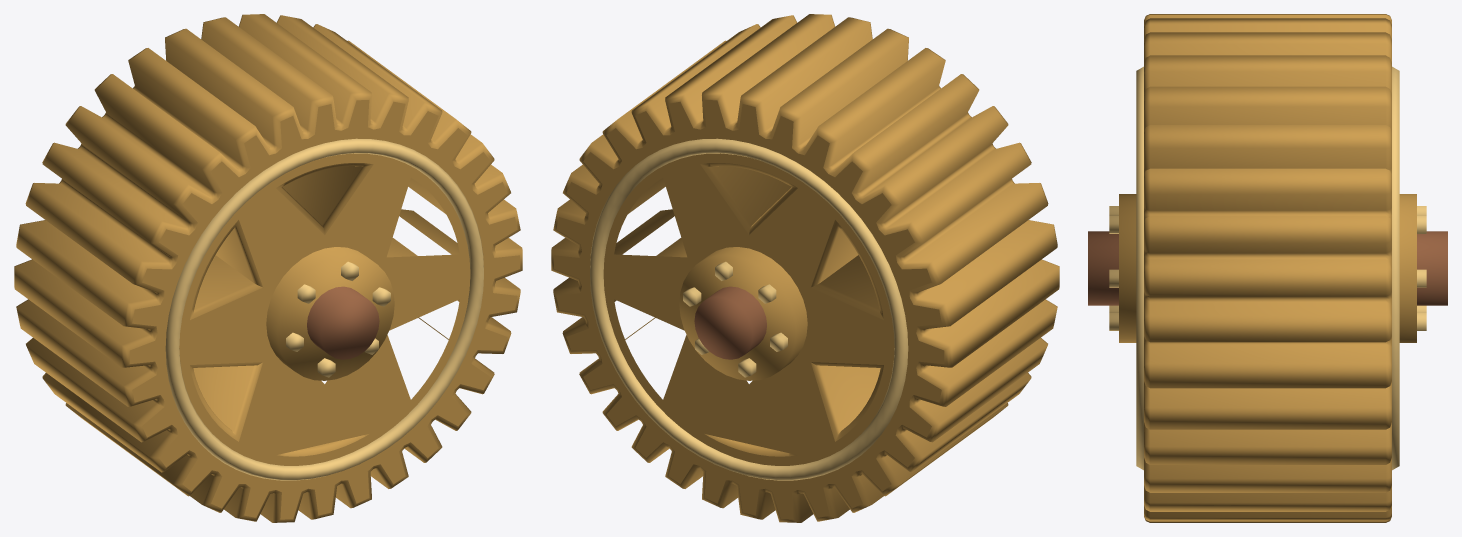
File: gear-32.glb
3 views of the same model, side by side, from view 1: azimuth 30°, elevation 25°; view 2: azimuth 150°, elevation 25°; view 3: azimuth 270°, elevation 25° (orthographic). The views are drawn at different scales.
Parts seen in each view (by area): view 1: gear; view 2: gear; view 3: gear.
Part boxes in pixels (bbox=[...]): gear: bbox=[14, 14, 522, 522]; gear: bbox=[551, 14, 1059, 522]; gear: bbox=[1088, 14, 1447, 522].
Bounding box in the file's own units: 2.05 × 2.05 × 1.45.
